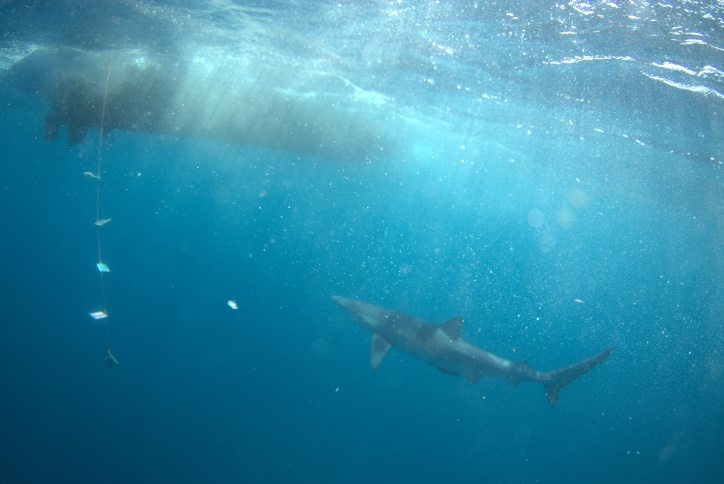Azul: (315, 276, 624, 415)
